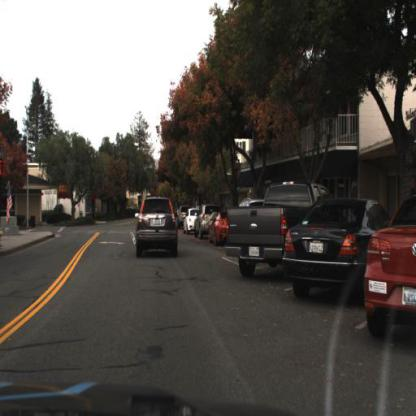car: (283, 186, 376, 308), (224, 174, 295, 281), (365, 195, 416, 342), (132, 194, 183, 262), (205, 209, 232, 249), (194, 202, 216, 240), (183, 204, 197, 239)
